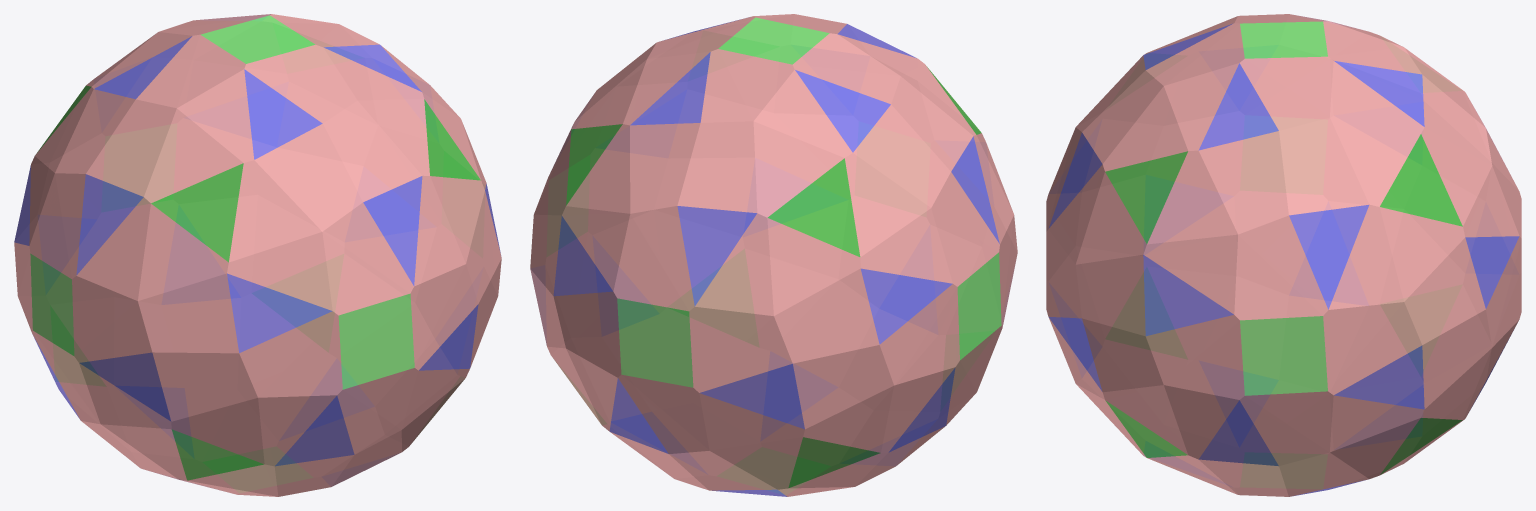
The model's file is BiscribedPropelloSnubCube.obj.
3 views of the same model, side by side, from view 1: azimuth 30°, elevation 25°; view 2: azimuth 150°, elevation 25°; view 3: azimuth 270°, elevation 25° (orthographic).
Size of the model in its own units: 2 by 2 by 2.
